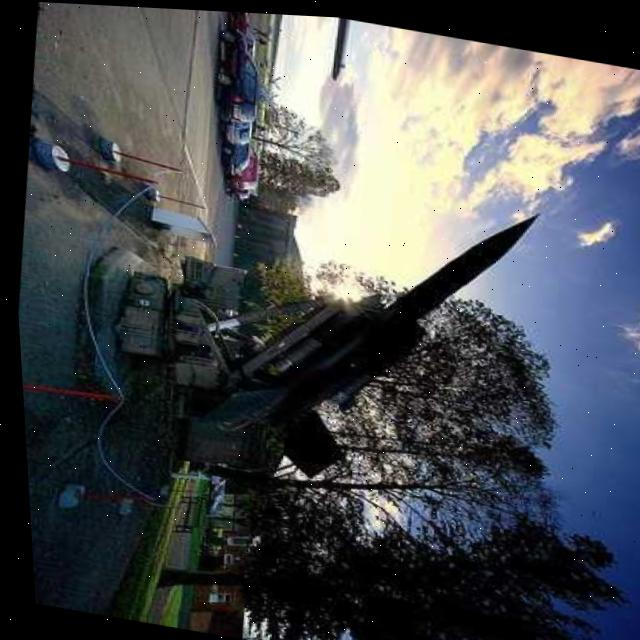missile: (188, 153, 552, 513)
